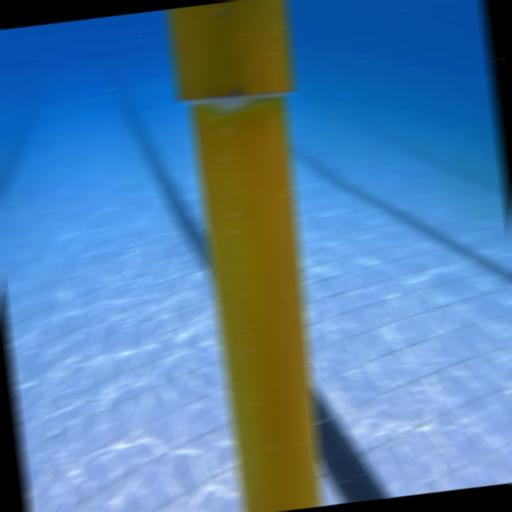pole_gate: (166, 0, 350, 512)
